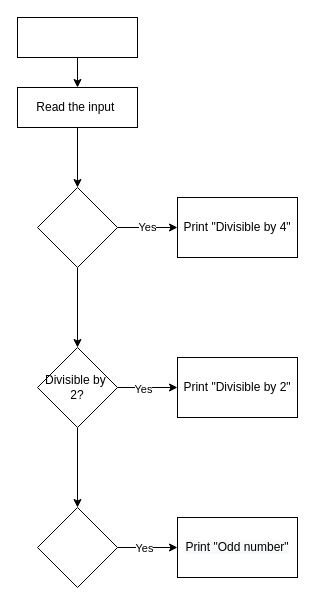
This 315x605 diagram has some shape labels left out. Each missing label, with the centre of its shape:
"Divisible by 4?" goes at [77,227].
"Get the user input" goes at [77,37].
"Odd?" goes at [77,547].
